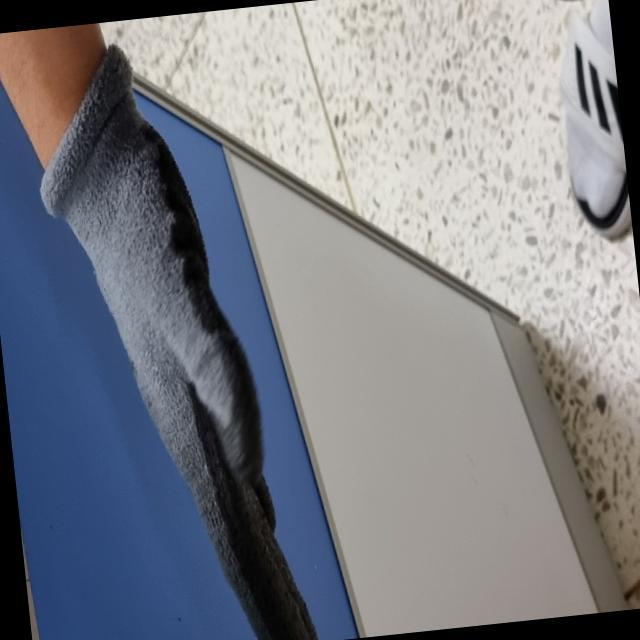Gloves: (35, 37, 323, 640)
